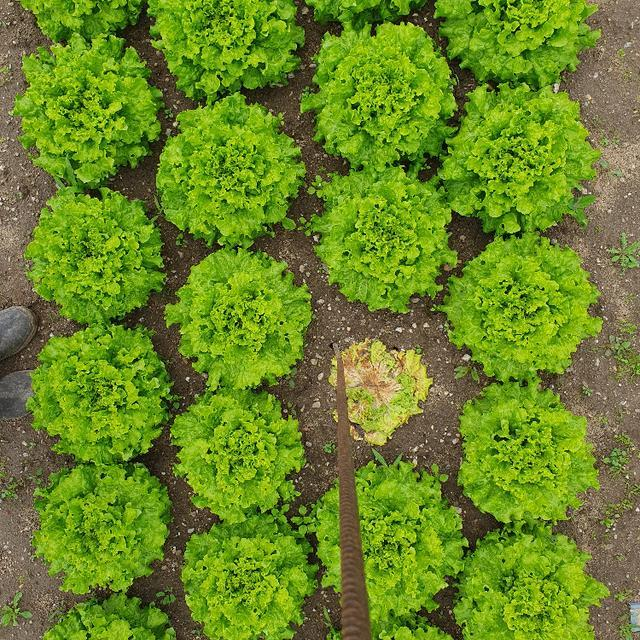Lettuce: (317, 456, 475, 616), (155, 94, 308, 254), (440, 235, 603, 380), (15, 32, 165, 188), (312, 163, 463, 315), (308, 17, 457, 168), (168, 245, 318, 393), (455, 382, 605, 530), (22, 180, 168, 330), (25, 322, 170, 463), (168, 386, 312, 526), (34, 458, 174, 595), (453, 523, 610, 640), (179, 518, 326, 640), (143, 0, 310, 100), (433, 0, 608, 86), (327, 334, 438, 454), (43, 588, 178, 640), (13, 0, 146, 43), (303, 0, 420, 26)
